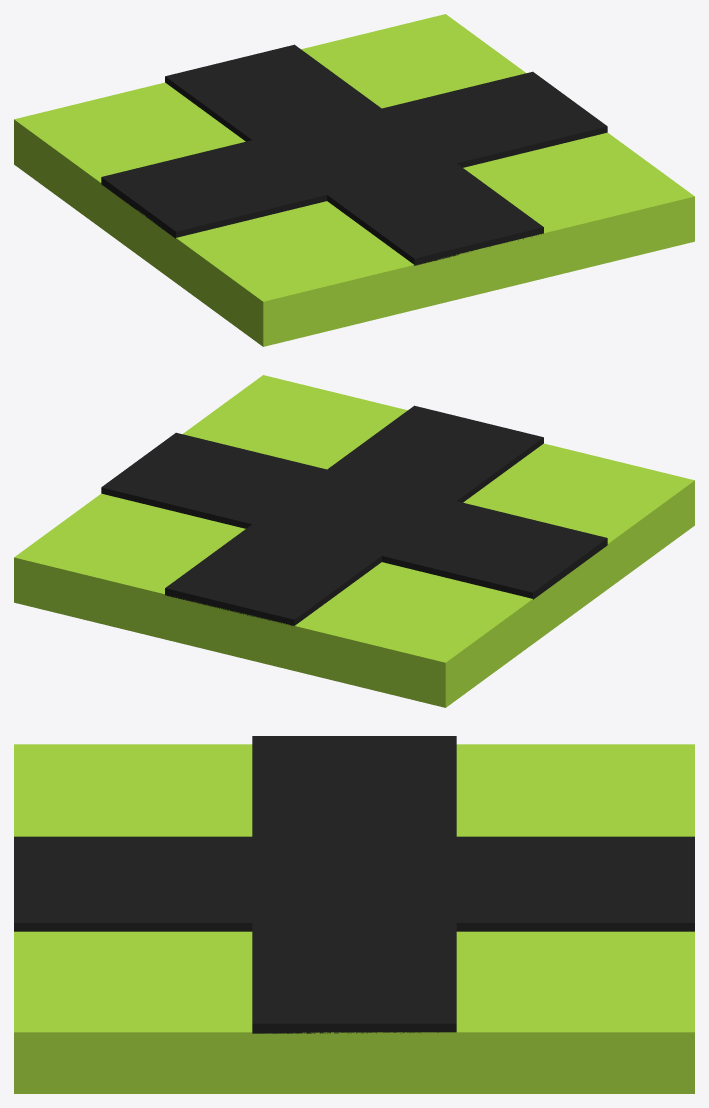
File: road.fbx
3 views of the same model, one above another, from view 1: azimuth 30°, elevation 25°; view 2: azimuth 150°, elevation 25°; view 3: azimuth 270°, elevation 25° (orthographic). The views are drawn at different scales.
Parts seen in each view (by area): view 1: Base, Cross, Turn, T-Cross, Half; view 2: Base, T-Cross, Cross, Turn, Half; view 3: Base, Cross, T-Cross, Turn, Half.
Part boxes in pixels (<box>): Base: <box>14,14,694,346</box>; Cross: <box>101,44,607,259</box>; Turn: <box>139,117,543,264</box>; T-Cross: <box>101,72,607,265</box>; Half: <box>254,108,404,178</box>; Base: <box>14,375,694,707</box>; T-Cross: <box>101,405,606,599</box>; Cross: <box>101,464,607,626</box>; Turn: <box>291,406,543,598</box>; Half: <box>253,496,419,554</box>; Base: <box>14,744,694,1093</box>; Cross: <box>252,736,694,1033</box>; T-Cross: <box>14,736,455,1033</box>; Turn: <box>14,736,385,918</box>; Half: <box>323,836,456,901</box>.
Bounding box in the file's own units: 200 × 22.74 × 200.
